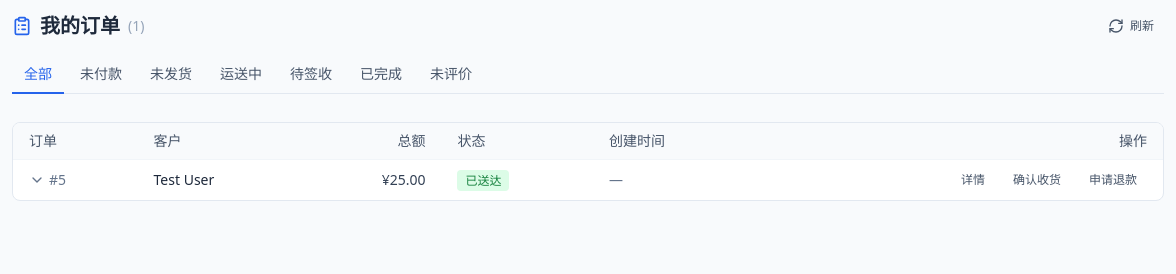
Test: Orders — 未评价 tab + review button (Phase D) › drawer shows 写评价 button on a DELIVERED order item
Check: the button "#5" is shown, box [29, 170, 66, 190]
# Expand the drawer via the 详情 button.
Click the button "详情".
click(973, 180)  # box [951, 168, 995, 192]
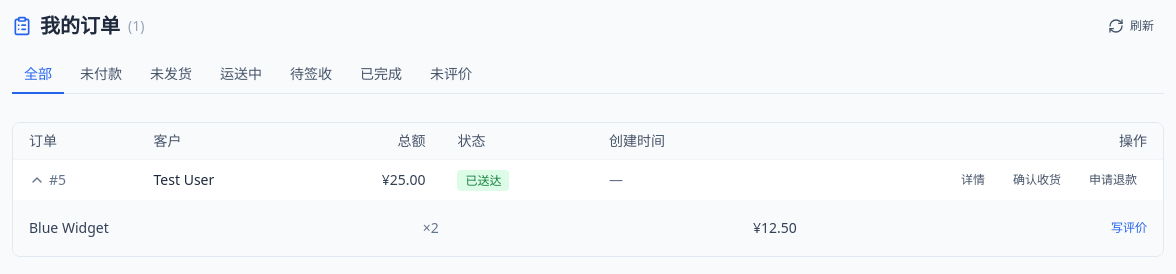
Check: the button "写评价" is shown, box [1111, 220, 1147, 236]
